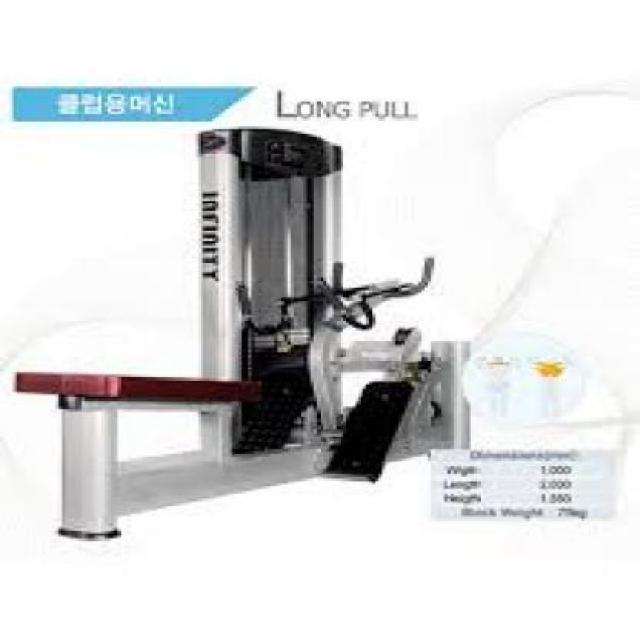Seated Cable Rows: (20, 119, 500, 538)
